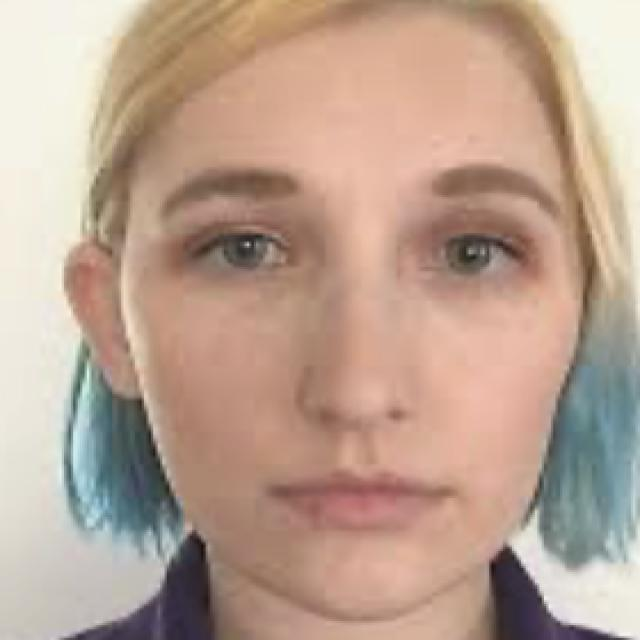natural: (71, 57, 640, 579)
